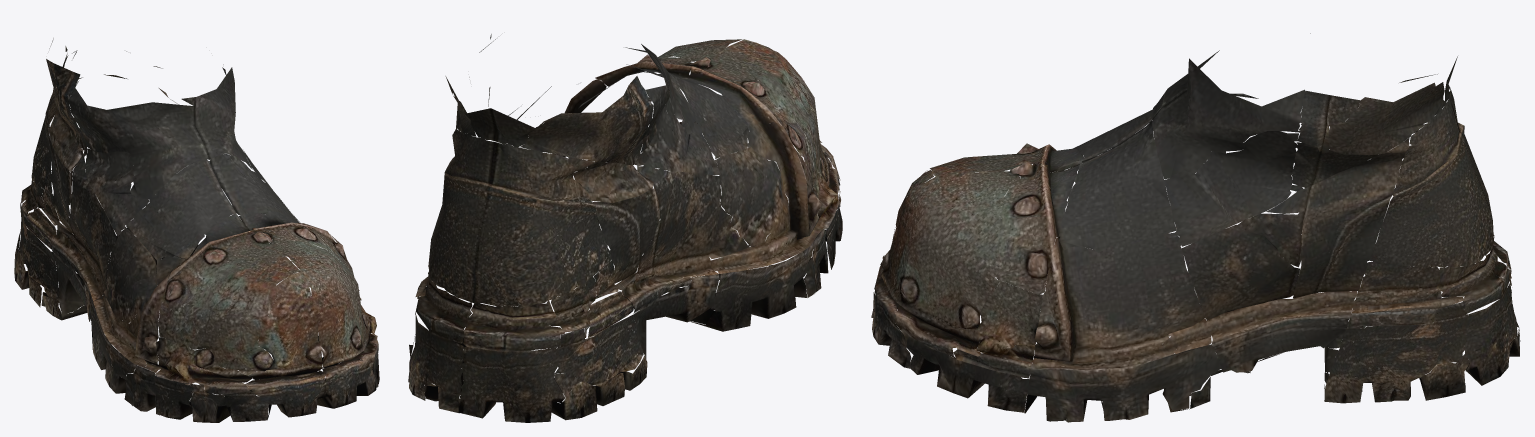
Rendered from a_sluice_boots_foot.glb.
3 views of the same model, side by side, from view 1: azimuth 30°, elevation 25°; view 2: azimuth 150°, elevation 25°; view 3: azimuth 270°, elevation 25° (orthographic). The views are drawn at different scales.
Parts seen in each view (by area): view 1: tripo_node_892a7d13-8db3-4021-8cfb-fa8c4bf19114; view 2: tripo_node_892a7d13-8db3-4021-8cfb-fa8c4bf19114; view 3: tripo_node_892a7d13-8db3-4021-8cfb-fa8c4bf19114.
Boxes of the visible parts, box(x1,y1,x2,y2) form: tripo_node_892a7d13-8db3-4021-8cfb-fa8c4bf19114: box(14, 38, 379, 422); tripo_node_892a7d13-8db3-4021-8cfb-fa8c4bf19114: box(408, 34, 842, 422); tripo_node_892a7d13-8db3-4021-8cfb-fa8c4bf19114: box(871, 33, 1520, 422).
Bounding box in the file's own units: 0.1691 × 0.18 × 0.3442.
1 material, 1 textured.
